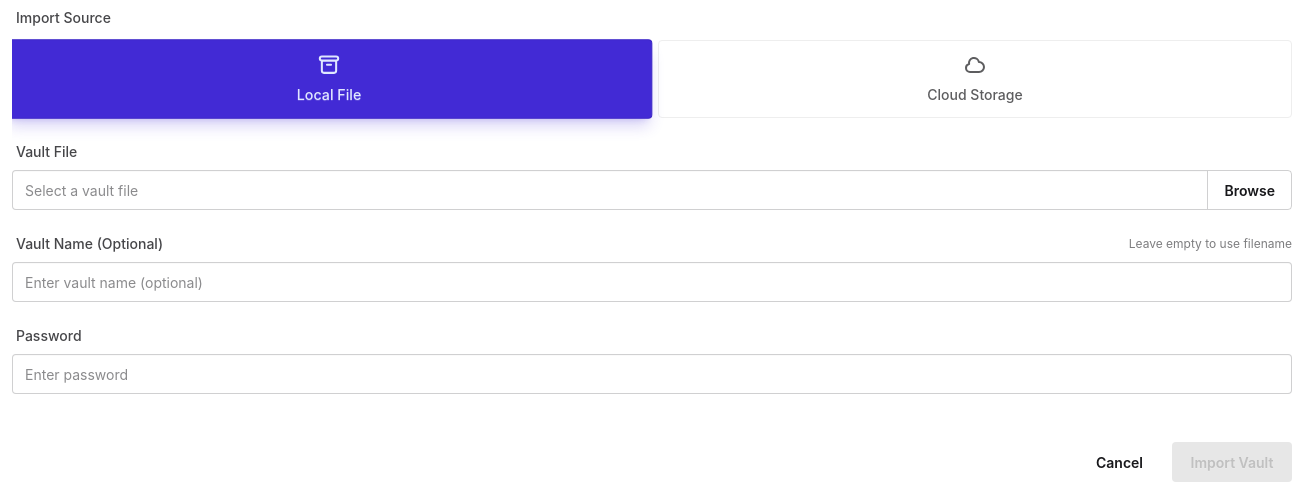
it: ImportVaultForm with Cloud Storage › Import Source Selection › should hide file selection when cloud storage is selected
Click the button "Cloud Storage": [975, 79] box [658,40,1292,118]
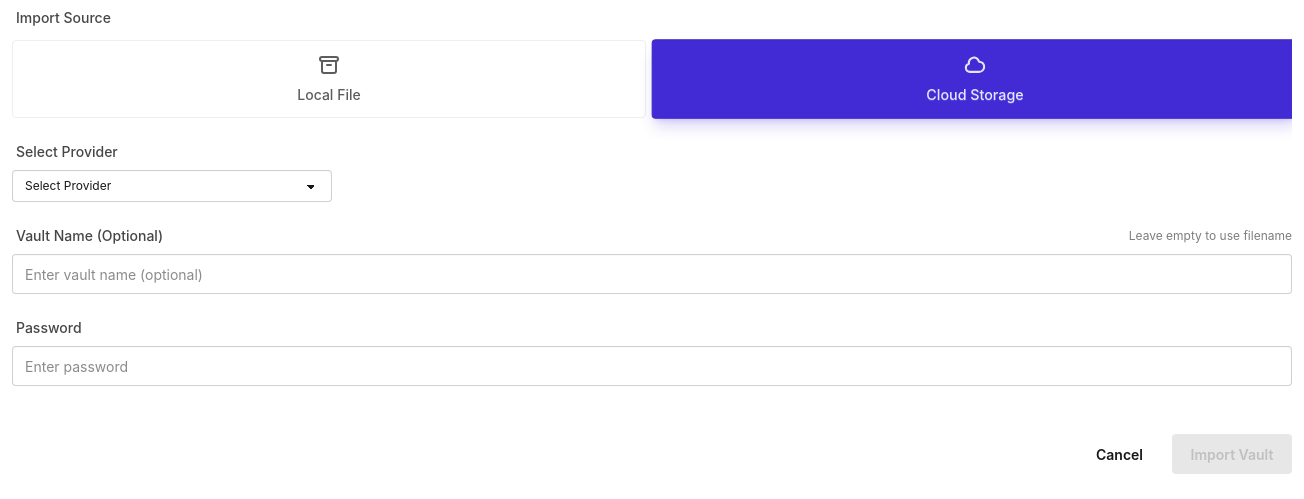
Now the text "Vault File" is gone
Now the button "Browse" is gone
